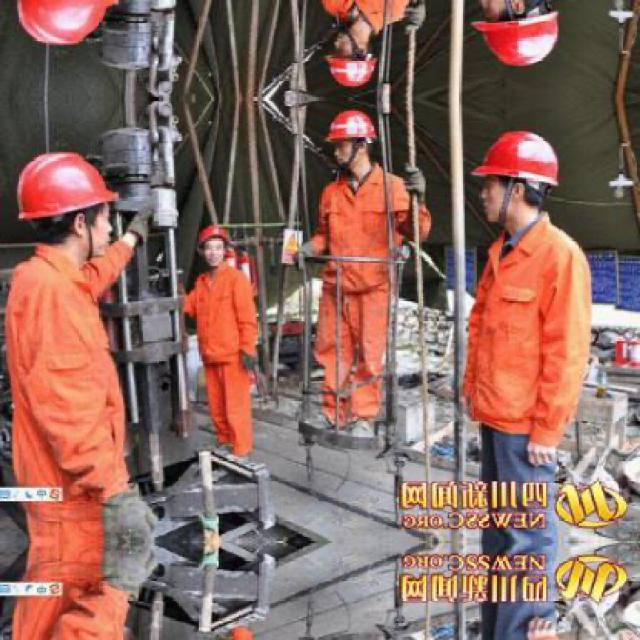helmet: (3, 137, 128, 280), (469, 119, 568, 232), (468, 0, 568, 77), (3, 0, 129, 58), (320, 108, 380, 168), (320, 28, 380, 88), (194, 217, 232, 269)
